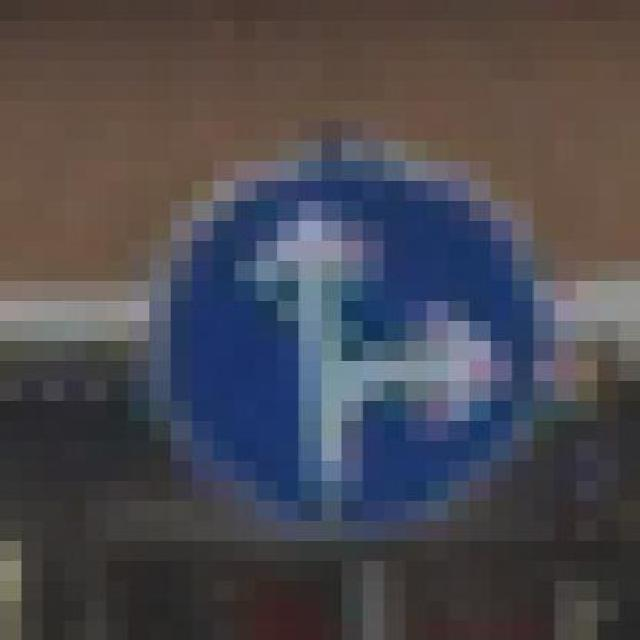Go Straight or Turn Right: (131, 117, 578, 557)
